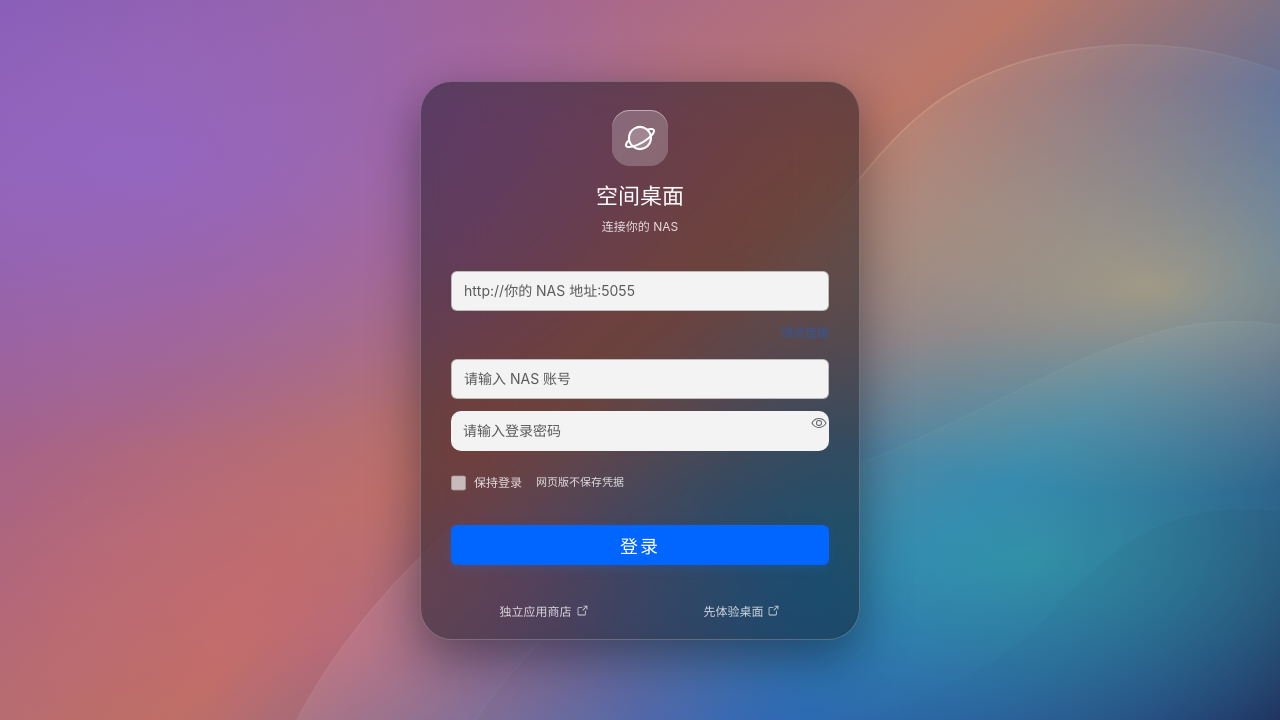
Test: returns to login when the official NAS session expires
In the field named "设备地址": (640,290) [451,270,829,310], type "http://synthetic.invalid:5055"
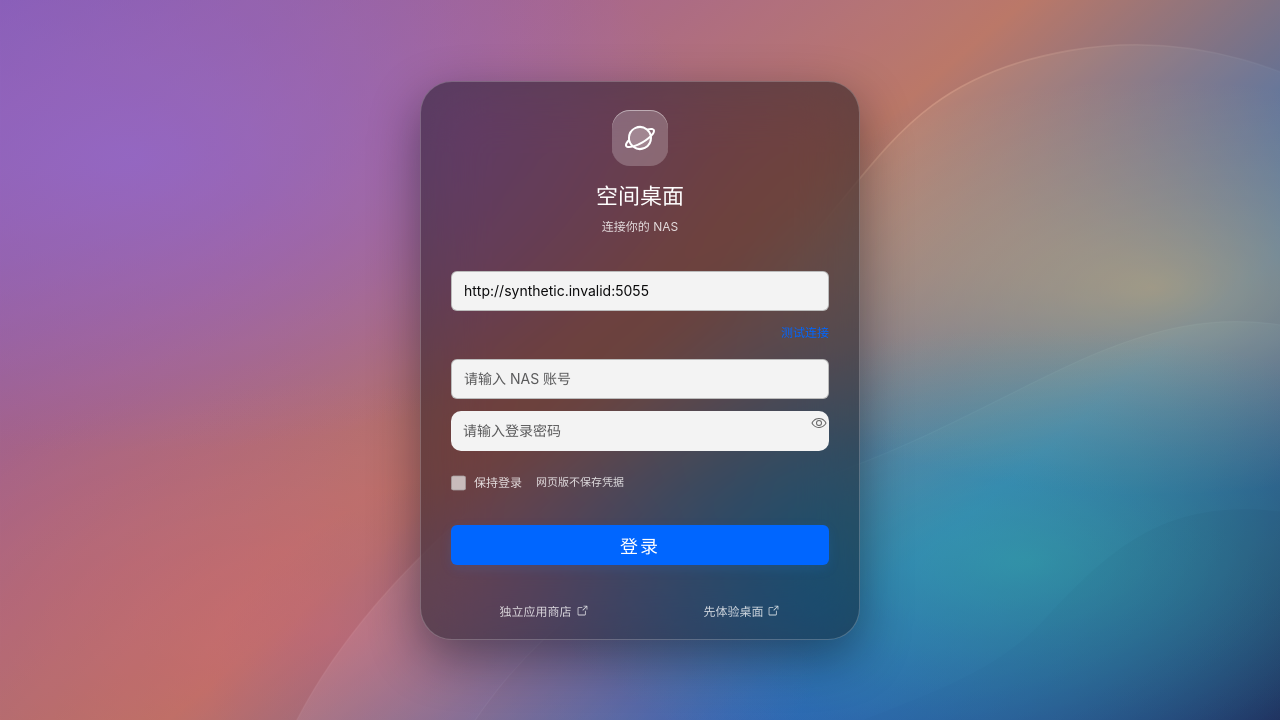
In the field labelled "账号": (640,378) [451,358,829,398], type "fixture"
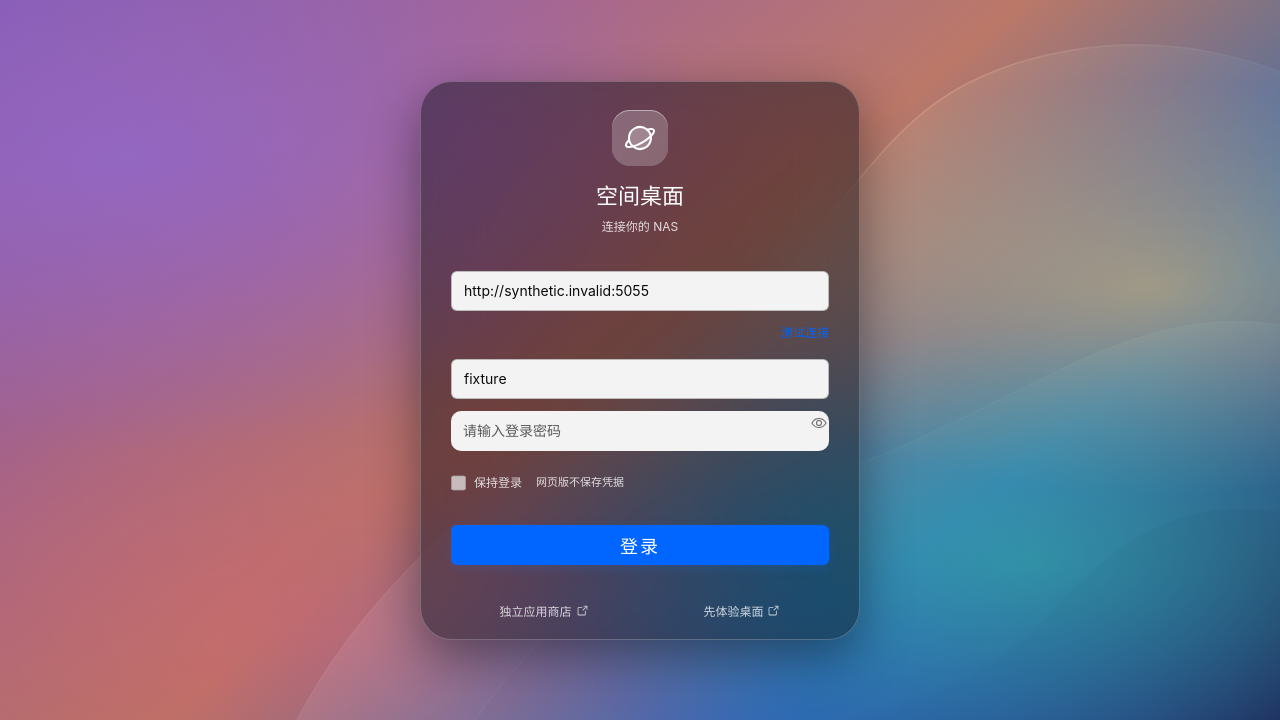
In the password field labelled "密码": (635,430) [451,410,819,450], type "synthetic-only"
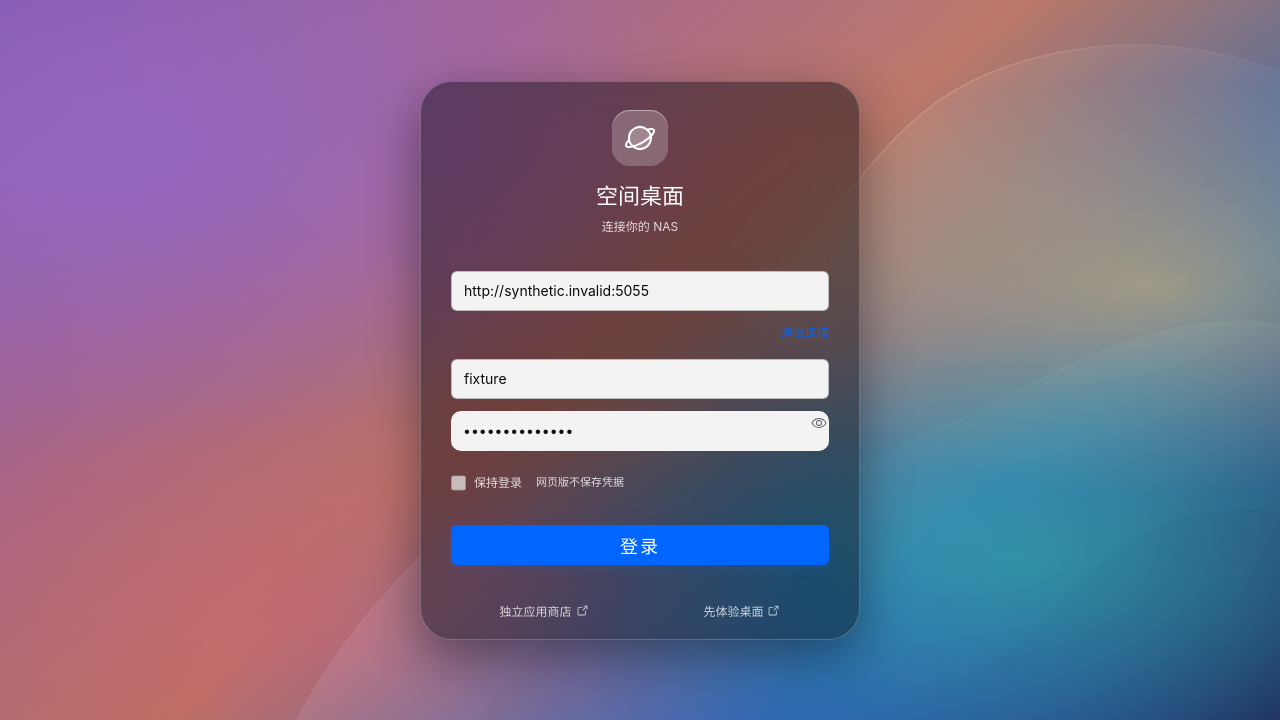
Click the button "登录": (640,544) [451,524,829,564]
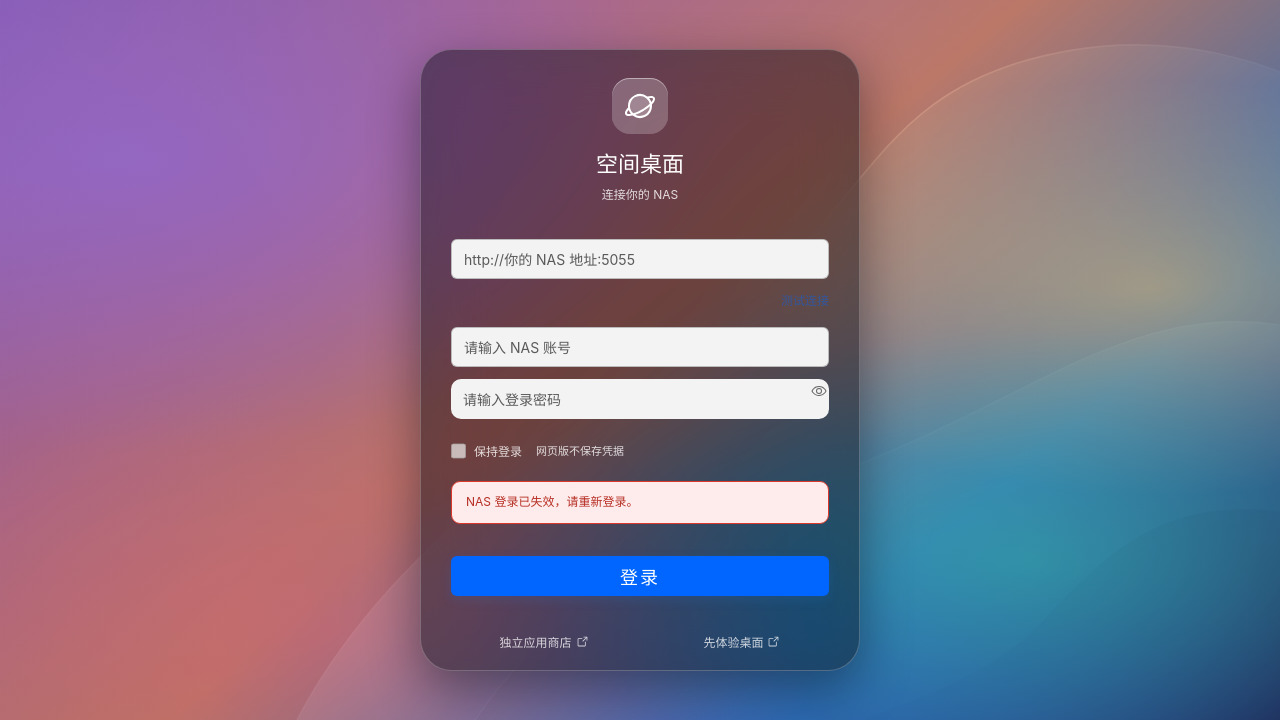
Expected: the message shows "NAS 登录已失效", [466,494,638,509]
